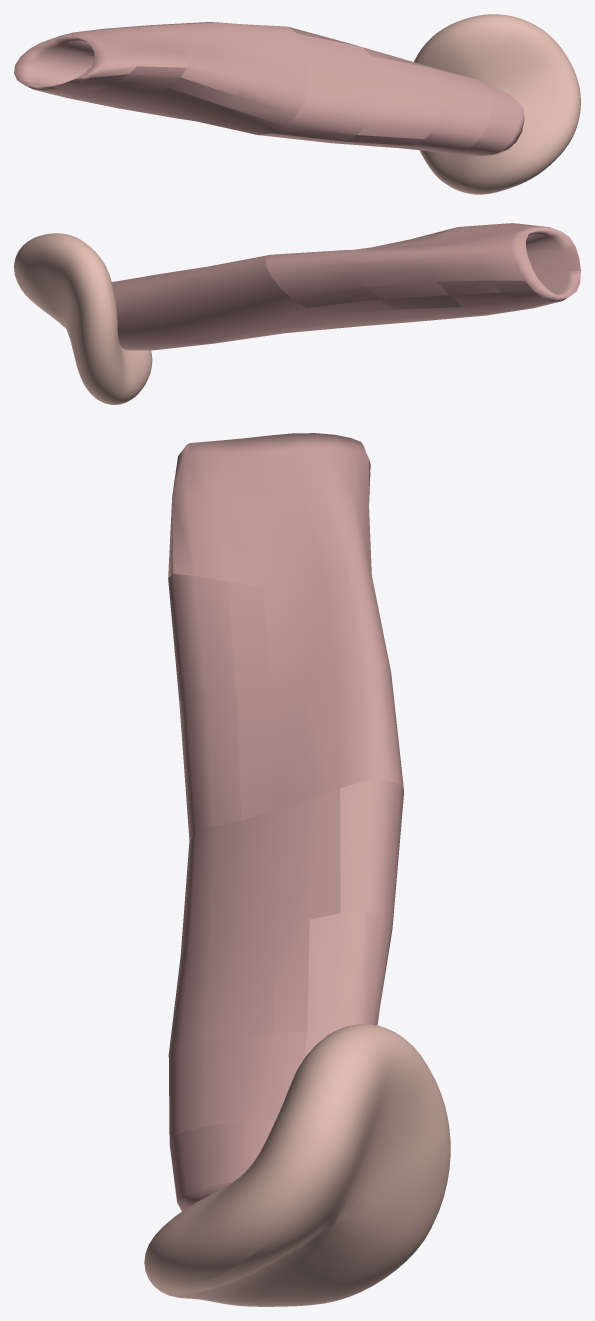
File: tapir.obj
The picture shows the model from 3 angles, top to bottom: view 1: azimuth 30°, elevation 25°; view 2: azimuth 150°, elevation 25°; view 3: azimuth 270°, elevation 25°; orthographic projection. The views are drawn at different scales.
Parts seen in each view (by area): view 1: 000_Torus, 001_Cylinder_-_baked; view 2: 000_Torus, 001_Cylinder_-_baked; view 3: 000_Torus, 001_Cylinder_-_baked.
Boxes of the visible parts, x1=… form: 000_Torus: x1=14, y1=22, x2=524, y2=156; 001_Cylinder_-_baked: x1=414, y1=14, x2=580, y2=194; 000_Torus: x1=112, y1=223, x2=580, y2=350; 001_Cylinder_-_baked: x1=14, y1=233, x2=152, y2=404; 000_Torus: x1=168, y1=433, x2=403, y2=1211; 001_Cylinder_-_baked: x1=144, y1=1024, x2=450, y2=1306.
Size of the model in its own units: 312 by 135 by 76.02.
